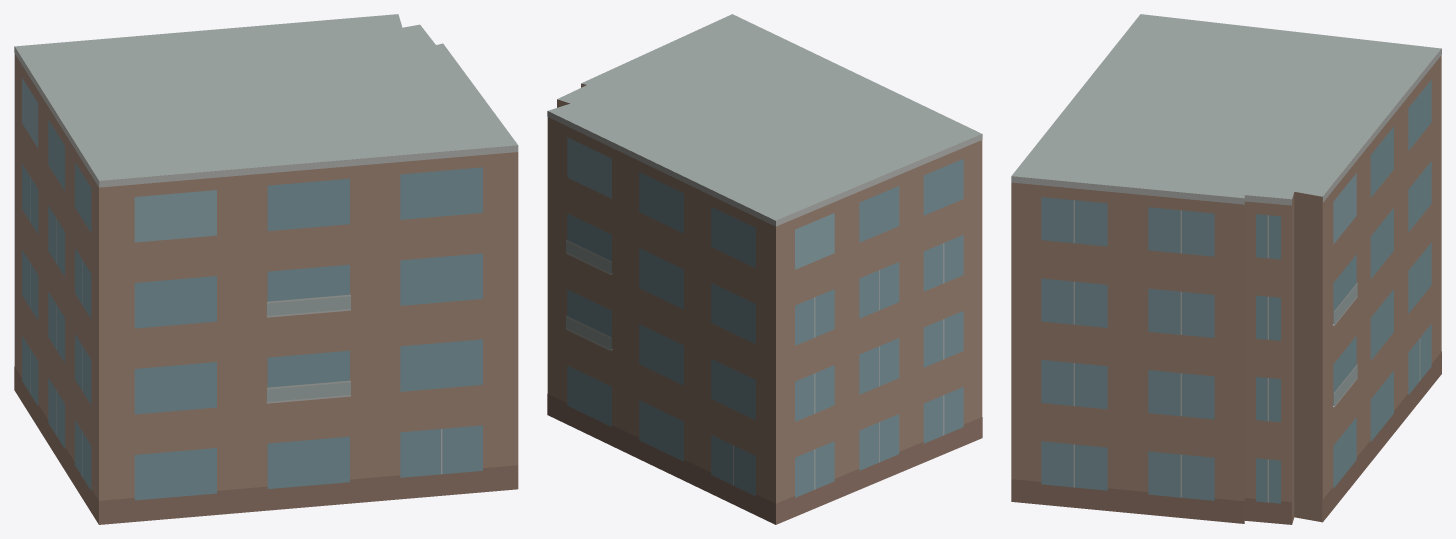
Rendered from survey-upis-32656209.glb.
3 renders of one model, left to right at view 1: azimuth 30°, elevation 25°; view 2: azimuth 150°, elevation 25°; view 3: azimuth 270°, elevation 25°, orthographic. The views are drawn at different scales.
Visible parts, largest first — view 1: survey-upis-32656209.tmp; view 2: survey-upis-32656209.tmp; view 3: survey-upis-32656209.tmp.
Part boxes in pixels (bbox=[...]): survey-upis-32656209.tmp: bbox=[14, 14, 518, 524]; survey-upis-32656209.tmp: bbox=[547, 14, 982, 524]; survey-upis-32656209.tmp: bbox=[1011, 14, 1441, 524].
Bounding box in the file's own units: 15.39 × 12.6 × 15.11.
